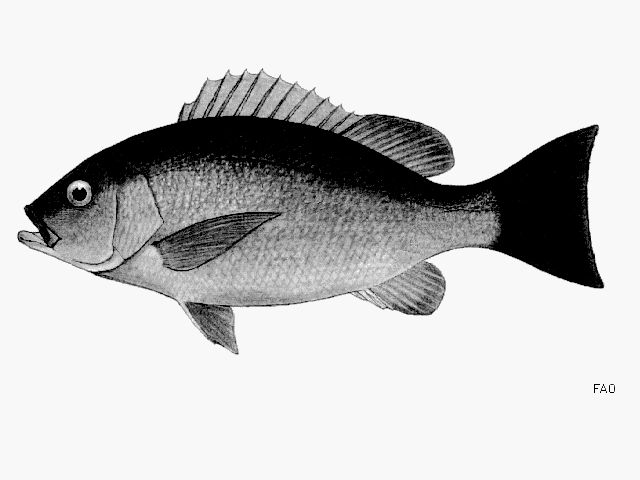fish: (17, 68, 606, 356)
